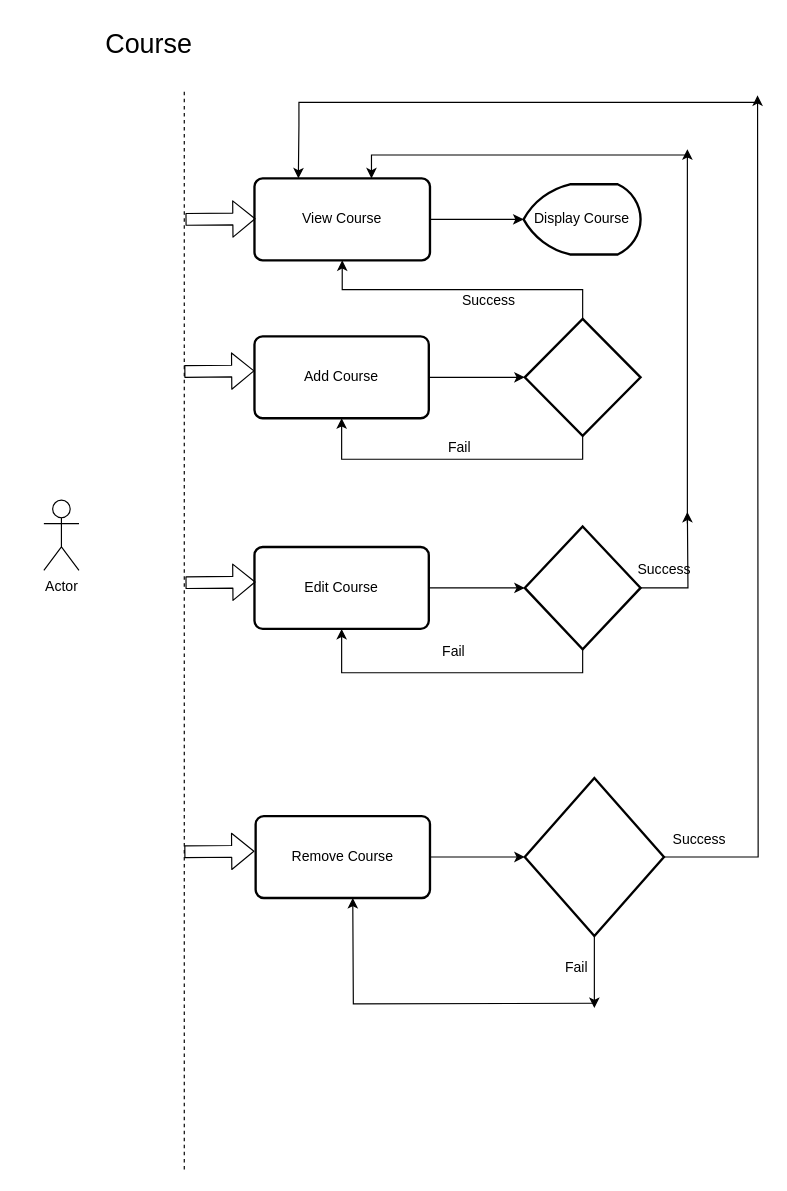
The diagram is 787 pixels wide and 1191 high, and some of its shapes have lost their labels. The centre of each missing label's shape, as x and y in pixels:
Add Operation Result: (582,376)
Edit Operation Result: (582,587)
Remove Operation Result: (594,856)
